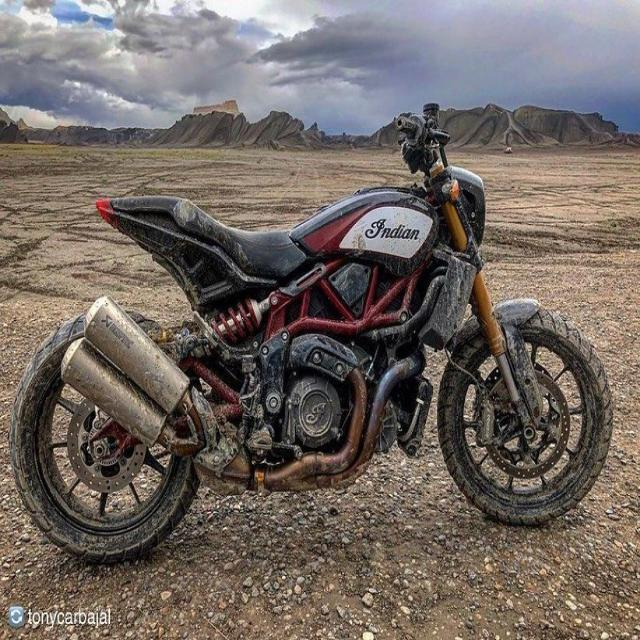motorcycle: (10, 103, 612, 562)
